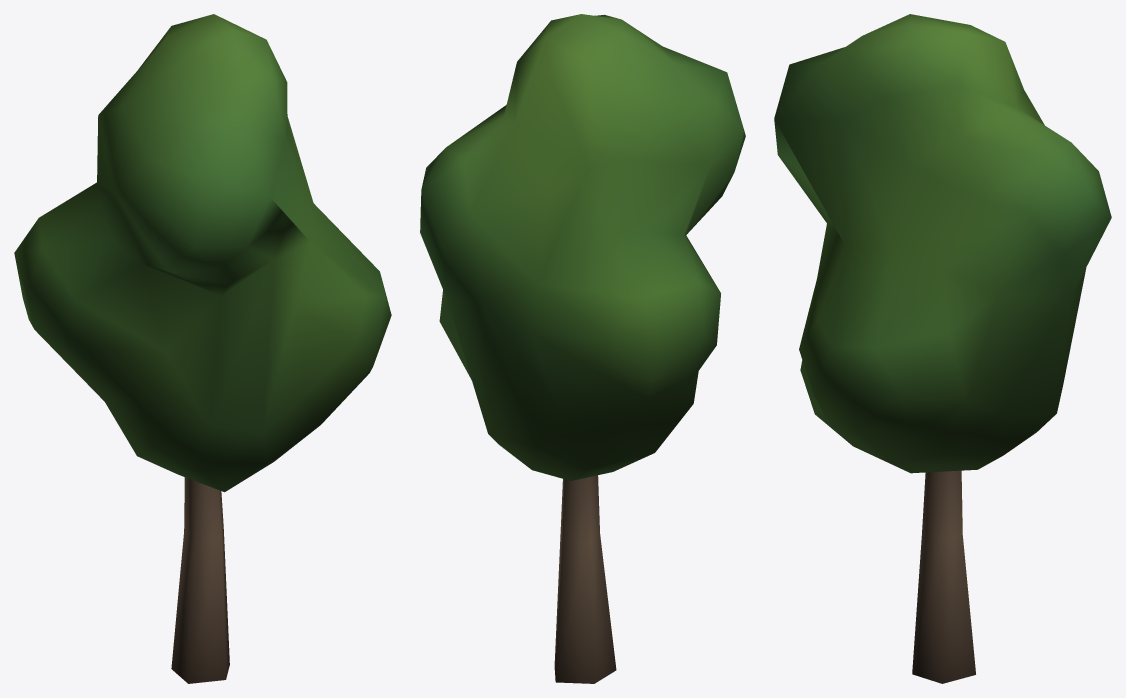
The model's file is pohon-c.glb.
3 views of the same model, side by side, from view 1: azimuth 30°, elevation 25°; view 2: azimuth 150°, elevation 25°; view 3: azimuth 270°, elevation 25° (orthographic).
Visible parts, largest first — view 1: GEO-pohon-c; view 2: GEO-pohon-c; view 3: GEO-pohon-c.
Part boxes in pixels (box(x1,y1,x2,y2)): GEO-pohon-c: box(14, 14, 391, 683); GEO-pohon-c: box(420, 14, 745, 683); GEO-pohon-c: box(774, 14, 1111, 683).
Bounding box in the file's own units: 6.93 × 14.09 × 6.59.
